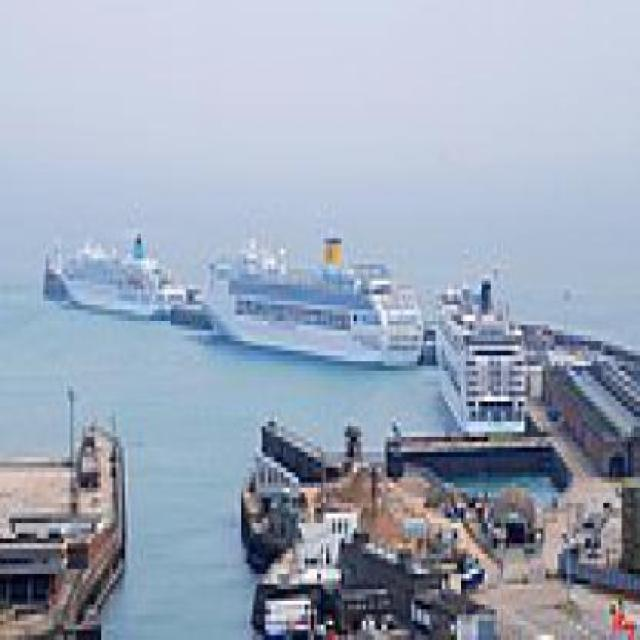cruise: (202, 225, 431, 386), (44, 209, 193, 336), (436, 270, 535, 444)
